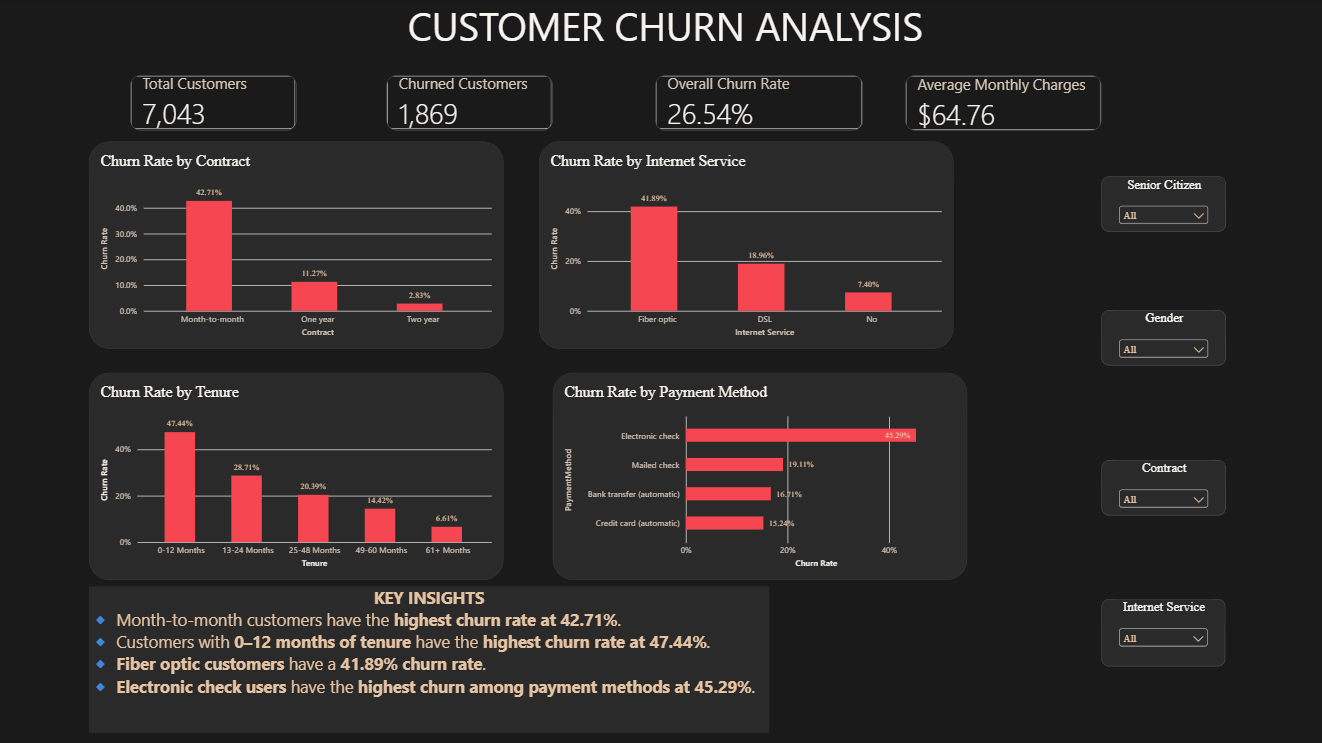

The dashboard page shown, as its layout file describes it:
{"tool":"powerbi","page":{"name":"Page 1","canvas":[1920,1080],"ordinal":0},"visuals":[{"type":"textbox","box":[130.3,850.5,984.5,211.7],"z":1000},{"type":"textbox","box":[101.3,0,1726.4,110.4],"z":2000},{"type":"cardVisual","fields":{"Data":["clean_data.Total Customers Display"]},"box":[190,110.4,240.7,79.6],"z":3000},{"type":"cardVisual","fields":{"Data":["clean_data.Churned Customers Display"]},"box":[561,110.4,240.7,79.6],"z":4000},{"type":"cardVisual","fields":{"Data":["clean_data.Churn Rate"]},"box":[950.1,110.4,300.4,79.6],"z":5000},{"type":"cardVisual","fields":{"Data":["clean_data.Average Monthly Charges"]},"box":[1312,110,284,80],"z":6000},{"type":"clusteredColumnChart","title":"Churn Rate by Contract","fields":{"Category":["clean_data.Contract"],"Y":["clean_data.Churn Rate Numeric"]},"box":[130.4,206,600,300],"z":7000},{"type":"clusteredColumnChart","title":"Churn Rate by Internet Service","fields":{"Category":["clean_data.InternetService"],"Y":["clean_data.Churn Rate Numeric"]},"box":[782.4,206,600,300],"z":8000},{"type":"clusteredColumnChart","title":"Churn Rate by Tenure","fields":{"Category":["clean_data.Tenure Group"],"Y":["clean_data.Churn Rate Numeric"]},"box":[130.4,540.5,600,300],"z":9000},{"type":"clusteredBarChart","title":"Churn Rate by Payment Method","fields":{"Category":["clean_data.PaymentMethod"],"Y":["clean_data.Churn Rate Numeric"]},"box":[801.3,540.5,600,300],"z":10000},{"type":"slicer","title":"Internet Service","fields":{"Values":["clean_data.InternetService"]},"box":[1596.1,868.6,179.2,97.7],"z":11000},{"type":"slicer","title":"Contract","fields":{"Values":["clean_data.Contract"]},"box":[1596,668,180,80],"z":12000},{"type":"slicer","title":"Gender","fields":{"Values":["clean_data.gender"]},"box":[1596,449.8,180,80],"z":13000},{"type":"slicer","title":"Senior Citizen","fields":{"Values":["clean_data.SeniorCitizen_Label"]},"box":[1596.3,256.3,180,80],"z":14000}]}

Visuals, with their boxes in screenshot pixels (x1, y1, x2, y2), scaled from the page's 1920x1080 canvas onto the 1322x743 screenshot:
textbox: detection(90, 585, 768, 731)
textbox: detection(70, 0, 1258, 76)
cardVisual - clean_data.Total Customers Display: detection(131, 76, 297, 131)
cardVisual - clean_data.Churned Customers Display: detection(386, 76, 552, 131)
cardVisual - clean_data.Churn Rate: detection(654, 76, 861, 131)
cardVisual - clean_data.Average Monthly Charges: detection(903, 76, 1099, 131)
"Churn Rate by Contract" clusteredColumnChart: detection(90, 142, 503, 348)
"Churn Rate by Internet Service" clusteredColumnChart: detection(539, 142, 952, 348)
"Churn Rate by Tenure" clusteredColumnChart: detection(90, 372, 503, 578)
"Churn Rate by Payment Method" clusteredBarChart: detection(552, 372, 965, 578)
"Internet Service" slicer: detection(1099, 598, 1222, 665)
"Contract" slicer: detection(1099, 460, 1223, 515)
"Gender" slicer: detection(1099, 309, 1223, 364)
"Senior Citizen" slicer: detection(1099, 176, 1223, 231)
